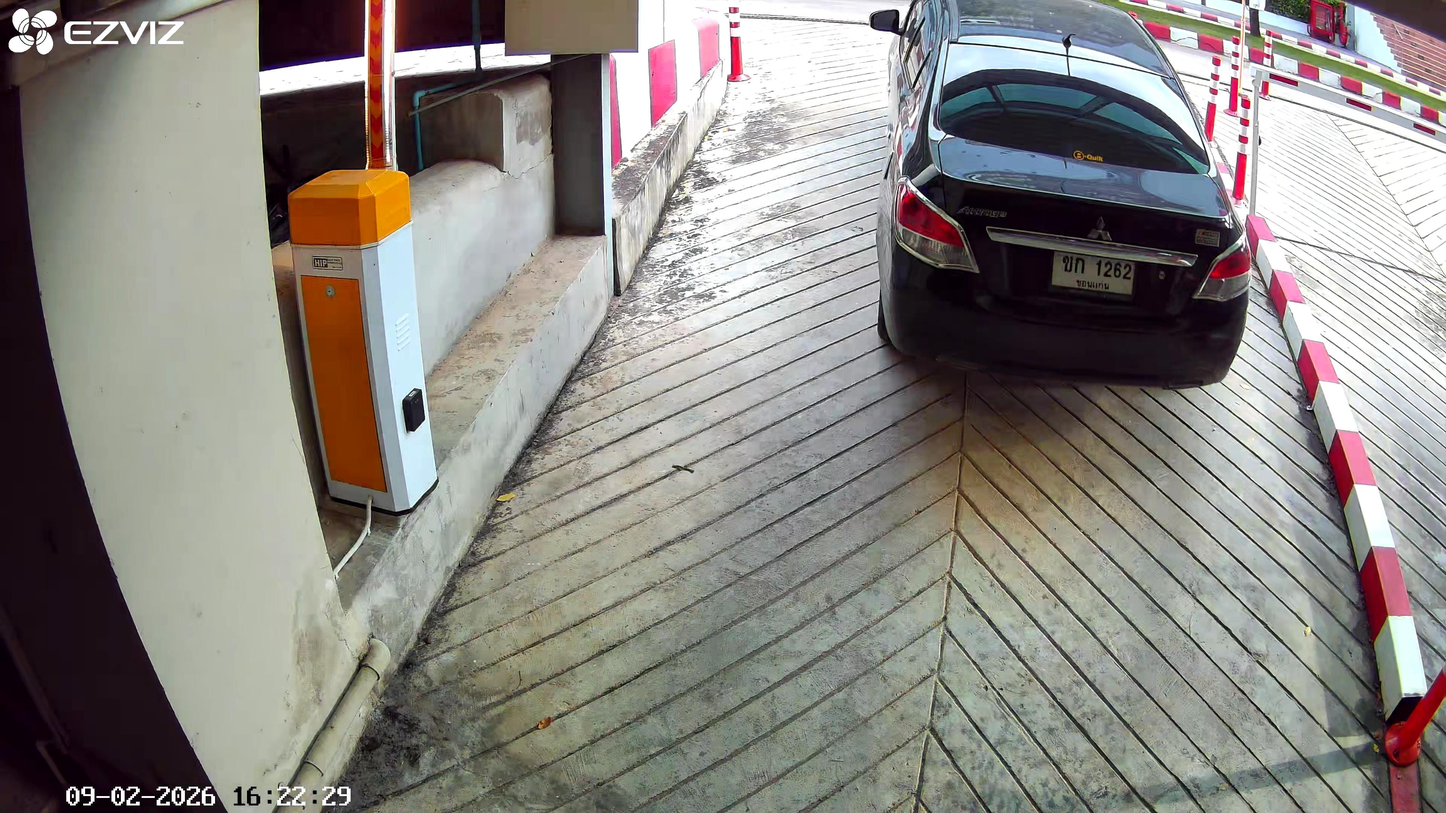car: (874, 5, 1254, 380)
license-plate: (1049, 246, 1136, 299)
